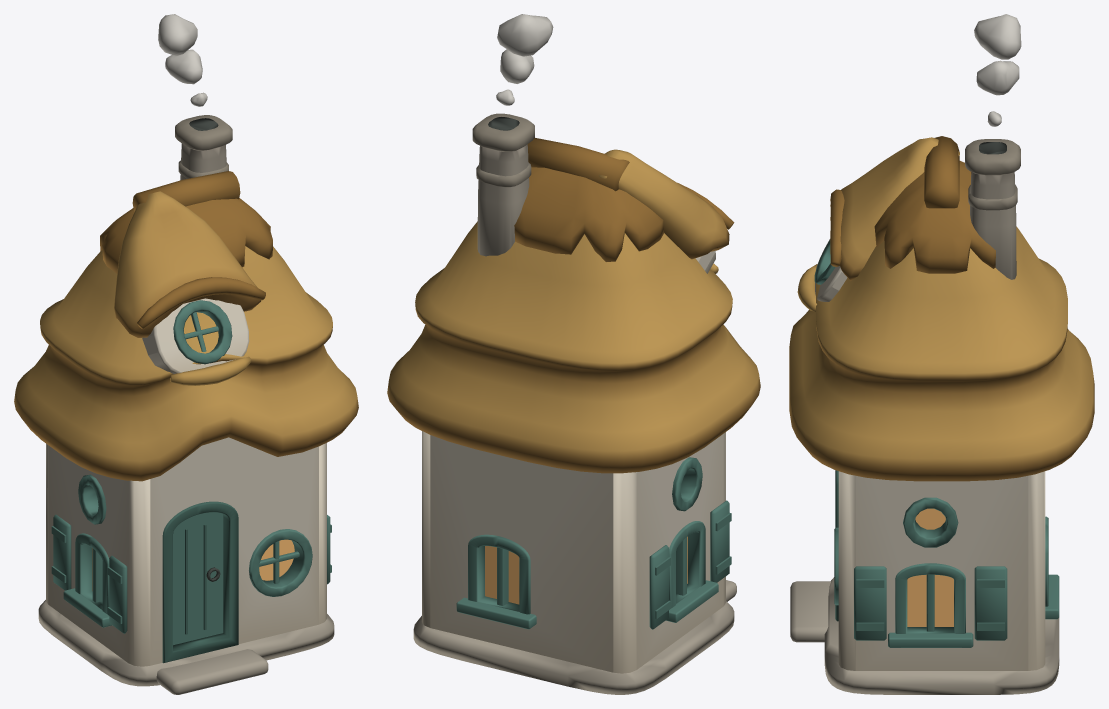
Rendered from BLD_Cottage_Small_A_T2.fbx.
3 views of the same model, side by side, from view 1: azimuth 30°, elevation 25°; view 2: azimuth 150°, elevation 25°; view 3: azimuth 270°, elevation 25° (orthographic). The views are drawn at different scales.
Visible parts, largest first — view 1: BLD_Cottage_Small_A_T2_Body_LOD0, BLD_Cottage_Small_A_T2_Puff3_LOD0, BLD_Cottage_Small_A_T2_Puff2_LOD0; view 2: BLD_Cottage_Small_A_T2_Body_LOD0, BLD_Cottage_Small_A_T2_Puff3_LOD0, BLD_Cottage_Small_A_T2_Puff2_LOD0; view 3: BLD_Cottage_Small_A_T2_Body_LOD0, BLD_Cottage_Small_A_T2_Puff3_LOD0, BLD_Cottage_Small_A_T2_Puff2_LOD0.
Boxes of the visible parts, x1,y1,x2,y2 form: BLD_Cottage_Small_A_T2_Body_LOD0: (14,115,358,694); BLD_Cottage_Small_A_T2_Puff3_LOD0: (158,14,197,55); BLD_Cottage_Small_A_T2_Puff2_LOD0: (165,49,202,84); BLD_Cottage_Small_A_T2_Body_LOD0: (387,113,760,694); BLD_Cottage_Small_A_T2_Puff3_LOD0: (497,14,553,56); BLD_Cottage_Small_A_T2_Puff2_LOD0: (500,49,534,83); BLD_Cottage_Small_A_T2_Body_LOD0: (789,136,1094,694); BLD_Cottage_Small_A_T2_Puff3_LOD0: (974,14,1021,59); BLD_Cottage_Small_A_T2_Puff2_LOD0: (976,60,1019,95).
Size of what is drawn, in the model's own units: 2.46 by 4.91 by 2.16.
